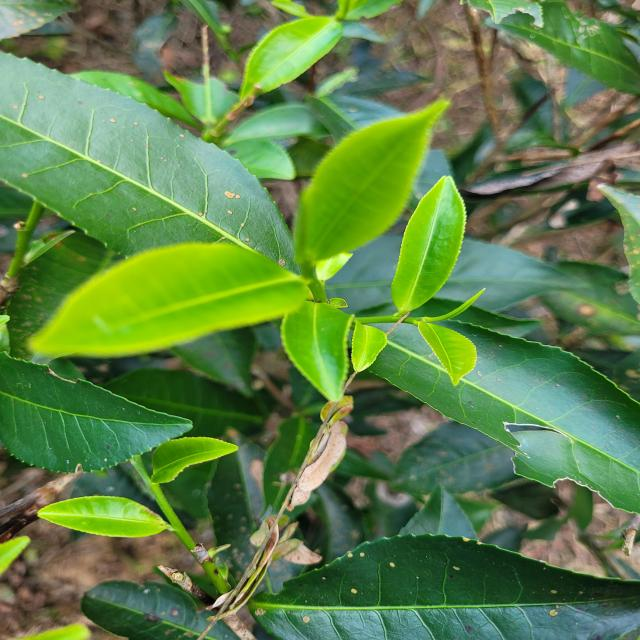Catagory A(1-2 days): (275, 90, 457, 264)
